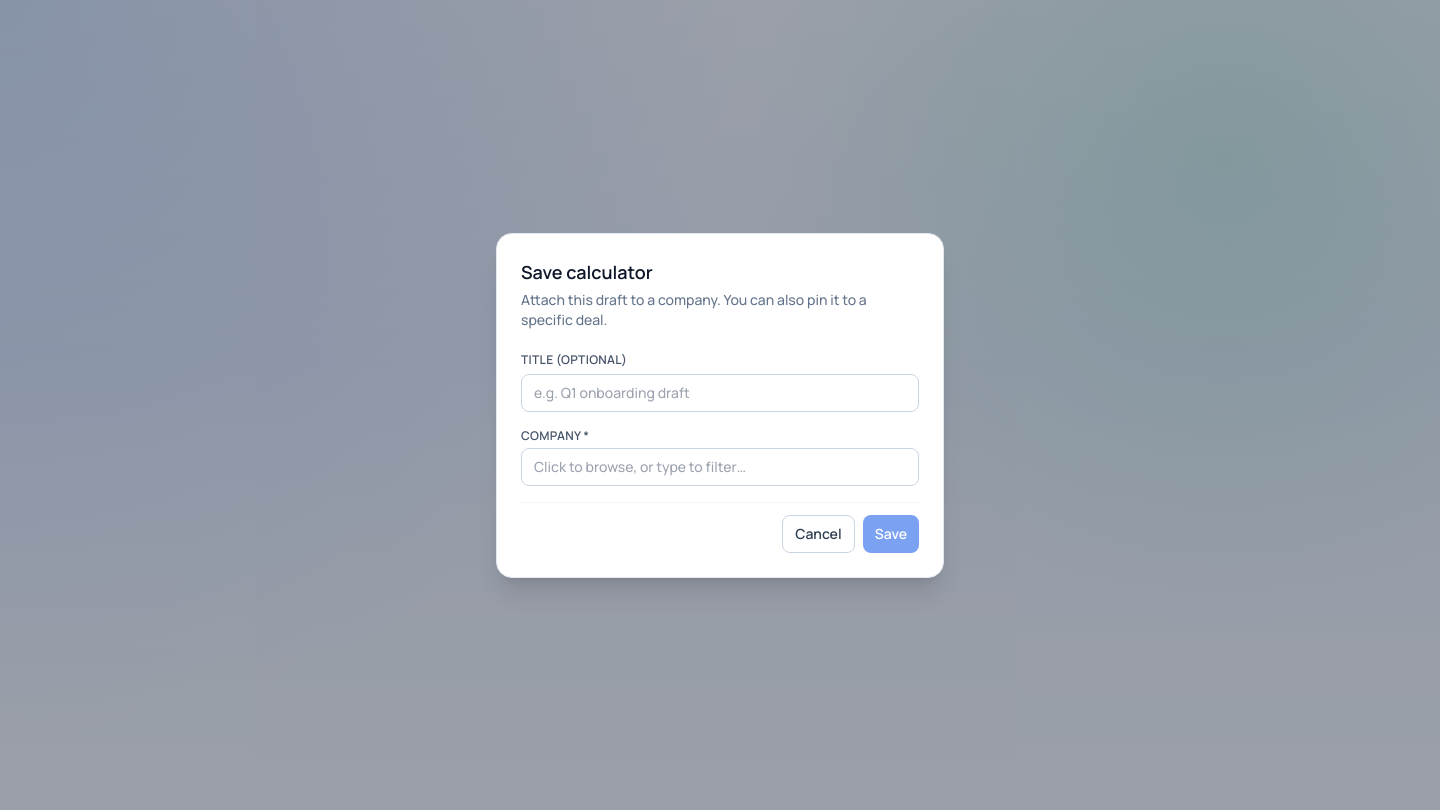
Test: SaveCalculatorModal — company typeahead › clicking a suggestion selects the company + loads its deals
The image size is (1440, 810).
Type "Ac" into the dropdown with placeholder "Click to browse, or type to filter…" at (720, 466), box [521, 448, 919, 486]
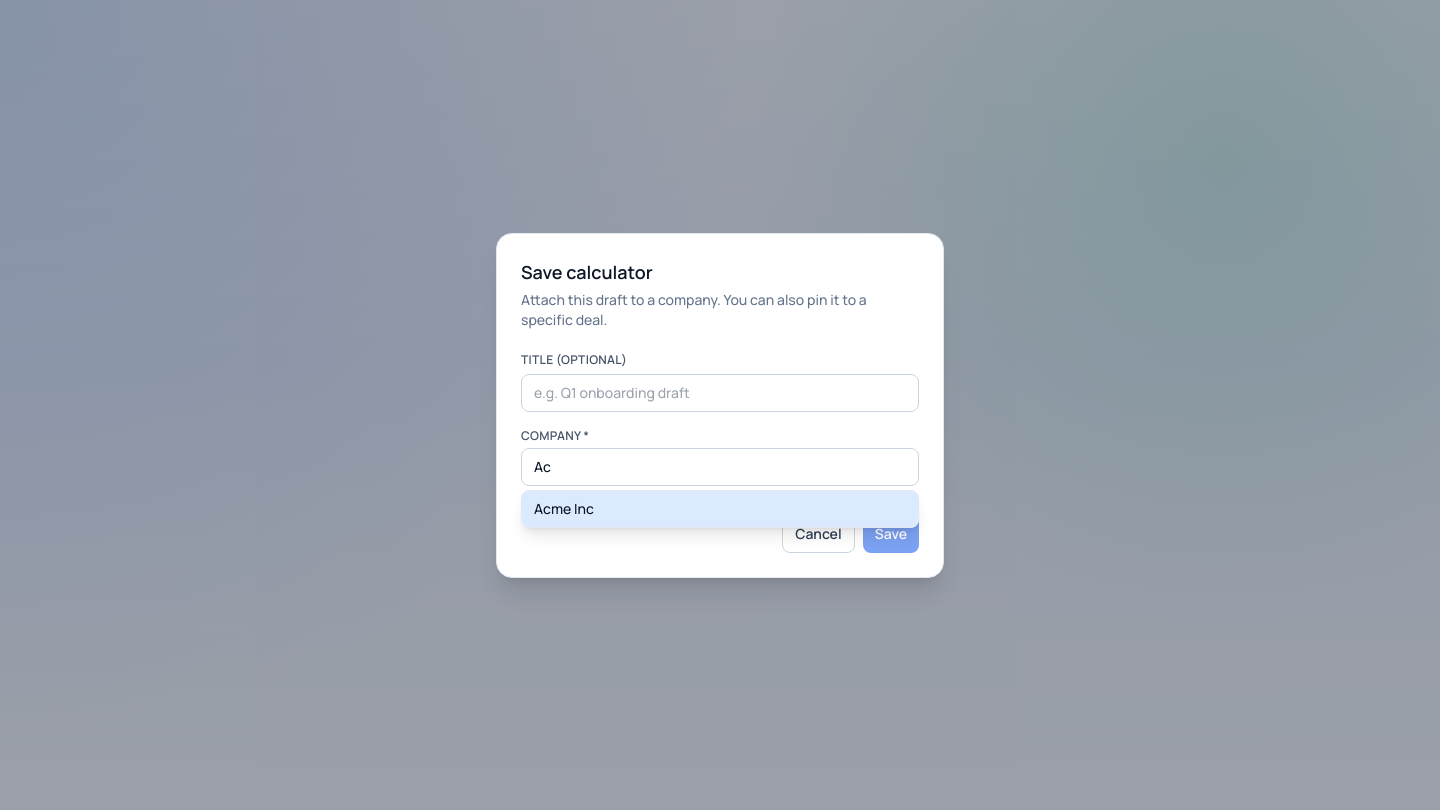
Expected: the text "Acme Inc" is shown, [534, 498, 594, 518]
Press the mouse on the option "Acme Inc" at (564, 508), box [522, 490, 918, 526]
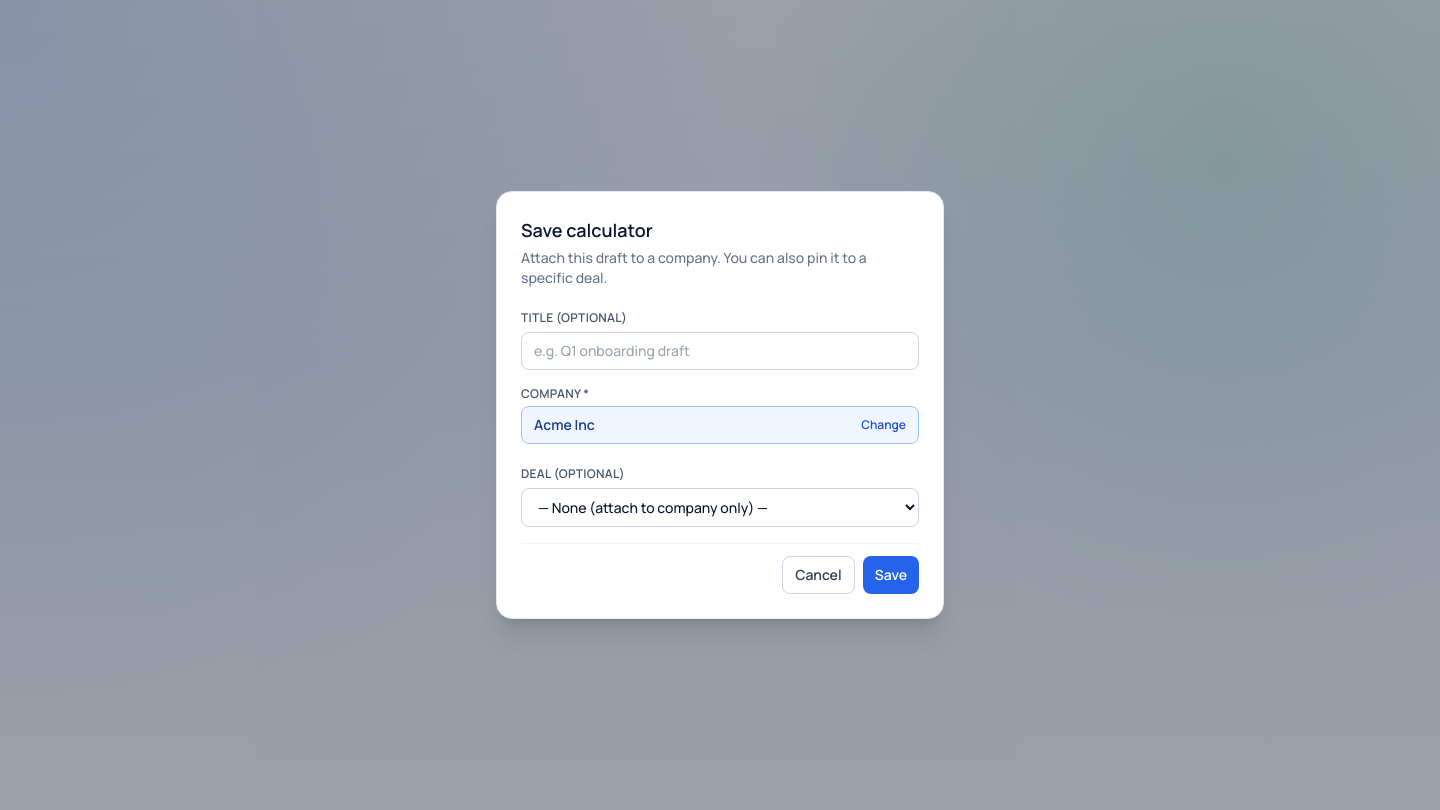
Expected: the button "Change" is shown, [861, 417, 906, 433]
